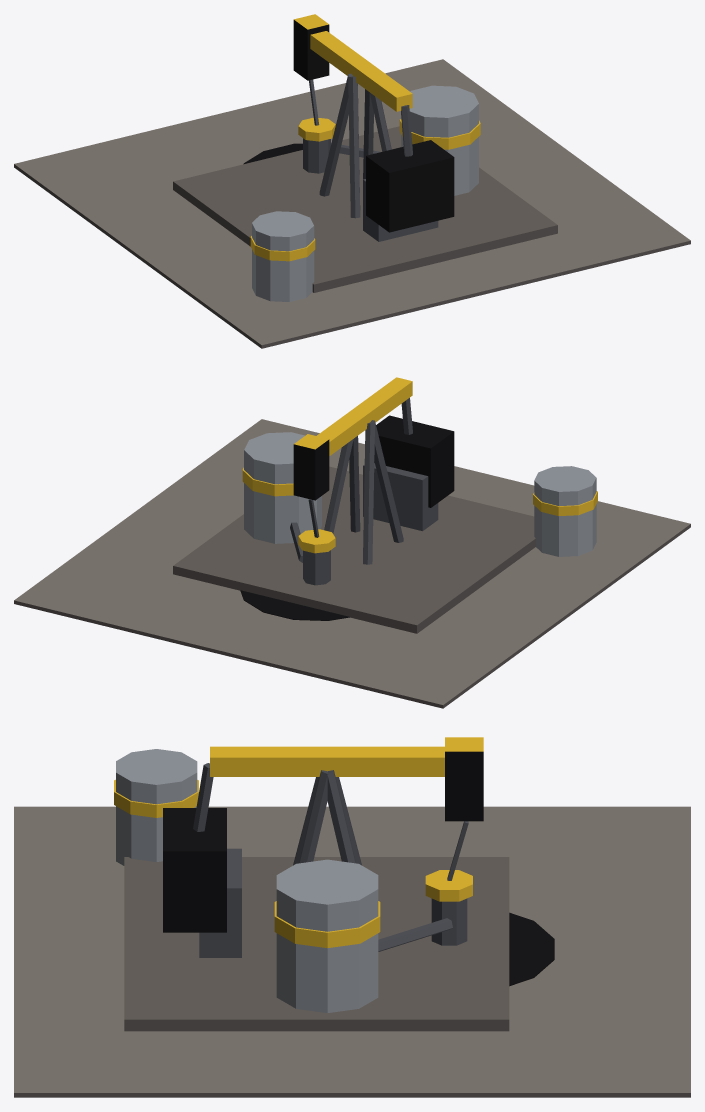
The model's file is oil_well_1.glb.
3 views of the same model, one above another, from view 1: azimuth 30°, elevation 25°; view 2: azimuth 150°, elevation 25°; view 3: azimuth 270°, elevation 25° (orthographic). The views are drawn at different scales.
Parts seen in each view (by area): view 1: oil_well_1; view 2: oil_well_1; view 3: oil_well_1.
Part boxes in pixels (x1,y1,x2,y2): oil_well_1: (14, 14, 690, 348); oil_well_1: (14, 377, 690, 708); oil_well_1: (14, 737, 690, 1097).
Size of the model in its own units: 3.8 by 1.3 by 3.8.
